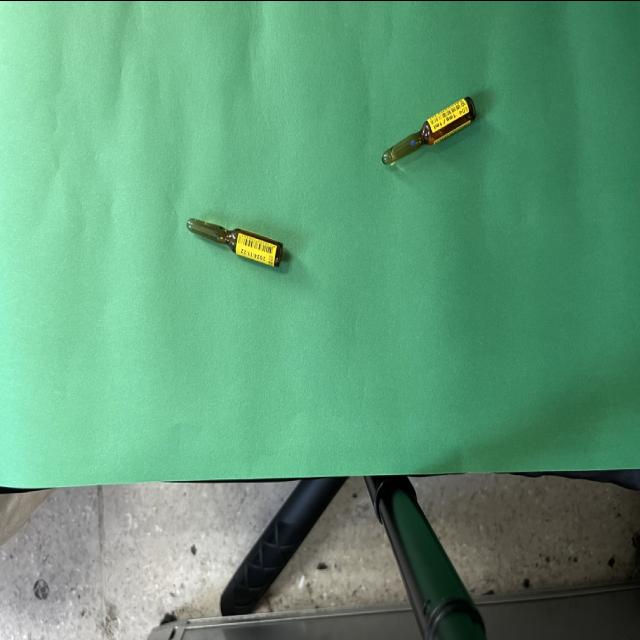Ampoules: (382, 97, 475, 164), (186, 218, 284, 267)
